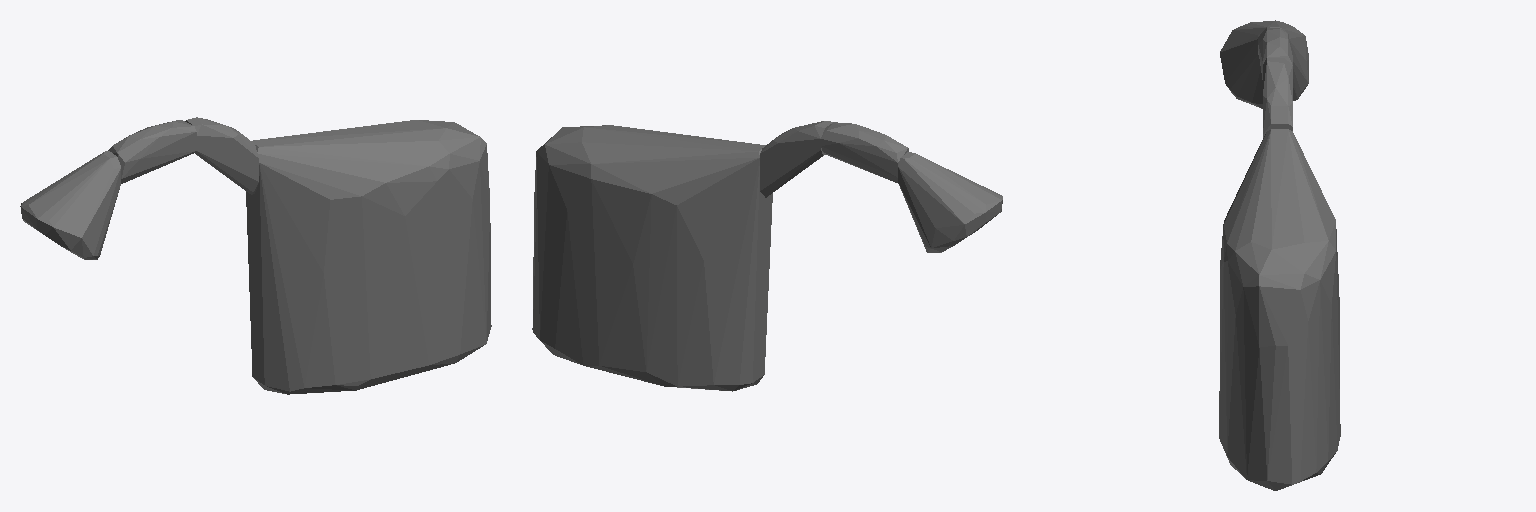
robot.urdf — watering_can_001:
<?xml version="1.0" ?>
<robot name="watering_can_001">
  <material name="color">
    <color rgba=".5 .5 .5 1"/>
  </material>

  <link name="base_link">
    <contact>
      <lateral_friction value="1.0"/>
      <rolling_friction value="0.001"/>
      <spinning_friction value="0.001"/>
      <inertia_scaling value="1.0"/>
    </contact>
    <inertial>
      <origin rpy="0 0 0" xyz="0.0124038 0.000174513 -0.00868196"/>
       <mass value="0.1"/>
       <inertia ixx="1" ixy="0" ixz="0" iyy="1" iyz="0" izz="1"/>
    </inertial>

    <visual>
      <origin rpy="0 0 0" xyz="0 0 0"/>
      <geometry>
        <mesh filename="watering_can_001_vhacd_0_of_4.obj" scale="1 1 1"/>
      </geometry>
      <material name="color"/>
    </visual>
    <visual>
      <origin rpy="0 0 0" xyz="0 0 0"/>
      <geometry>
        <mesh filename="watering_can_001_vhacd_1_of_4.obj" scale="1 1 1"/>
      </geometry>
      <material name="color"/>
    </visual>
    <visual>
      <origin rpy="0 0 0" xyz="0 0 0"/>
      <geometry>
        <mesh filename="watering_can_001_vhacd_2_of_4.obj" scale="1 1 1"/>
      </geometry>
      <material name="color"/>
    </visual>
    <visual>
      <origin rpy="0 0 0" xyz="0 0 0"/>
      <geometry>
        <mesh filename="watering_can_001_vhacd_3_of_4.obj" scale="1 1 1"/>
      </geometry>
      <material name="color"/>
    </visual>

    <collision>
      <origin rpy="0 0 0" xyz="0 0 0"/>
      <geometry>
        <mesh filename="watering_can_001_vhacd_0_of_4.obj" scale="1 1 1"/>
      </geometry>
    </collision>
    <collision>
      <origin rpy="0 0 0" xyz="0 0 0"/>
      <geometry>
        <mesh filename="watering_can_001_vhacd_1_of_4.obj" scale="1 1 1"/>
      </geometry>
    </collision>
    <collision>
      <origin rpy="0 0 0" xyz="0 0 0"/>
      <geometry>
        <mesh filename="watering_can_001_vhacd_2_of_4.obj" scale="1 1 1"/>
      </geometry>
    </collision>
    <collision>
      <origin rpy="0 0 0" xyz="0 0 0"/>
      <geometry>
        <mesh filename="watering_can_001_vhacd_3_of_4.obj" scale="1 1 1"/>
      </geometry>
    </collision>

  </link>
</robot>

--- What the picture shows (computed from the rendered views, not written in the file) ---
3 views of the same robot in one strip: view 1: azimuth 30°, elevation 25°; view 2: azimuth 150°, elevation 25°; view 3: azimuth 270°, elevation 25° (orthographic).
Robot: watering_can_001 — 1 links, 0 joints (none); root link base_link; default pose: every joint at zero.
Links seen in each view (by area): view 1: base_link; view 2: base_link; view 3: base_link.
Boxes of the visible links, x1,y1,x2,y2 form: base_link: (20, 117, 491, 394); base_link: (532, 121, 1002, 391); base_link: (1219, 20, 1340, 490).
Bounding box of the posed robot: 0.2545 × 0.0569 × 0.1517 m (x, y, z).
Meshes: 4 distinct files referenced, 4 mesh visuals loaded (4 OBJ).